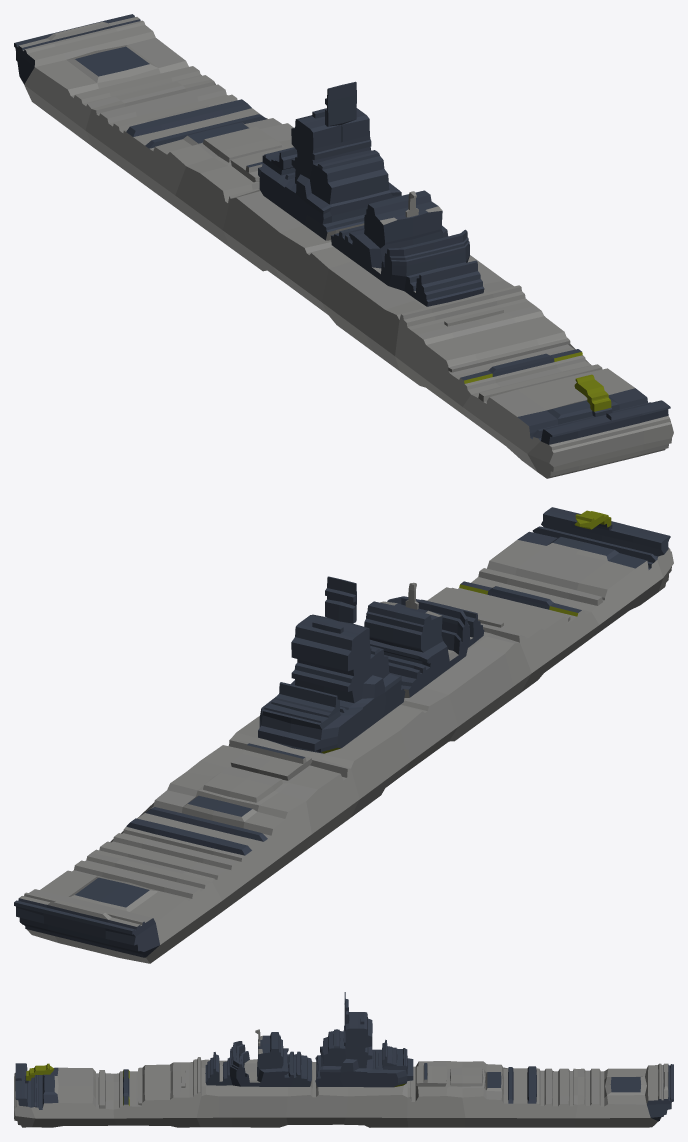
File: Battleship v8.fbx
3 renders of one model, top to bottom at view 1: azimuth 30°, elevation 25°; view 2: azimuth 150°, elevation 25°; view 3: azimuth 270°, elevation 25°, orthographic. The views are drawn at different scales.
Parts seen in each view (by area): view 1: Battle; view 2: Battle; view 3: Battle.
Boxes of the visible parts, x1,y1,x2,y2 form: Battle: (14,14,673,478); Battle: (14,507,673,963); Battle: (14,992,673,1127).
Bounding box in the file's own units: 88.75 × 116 × 606.
